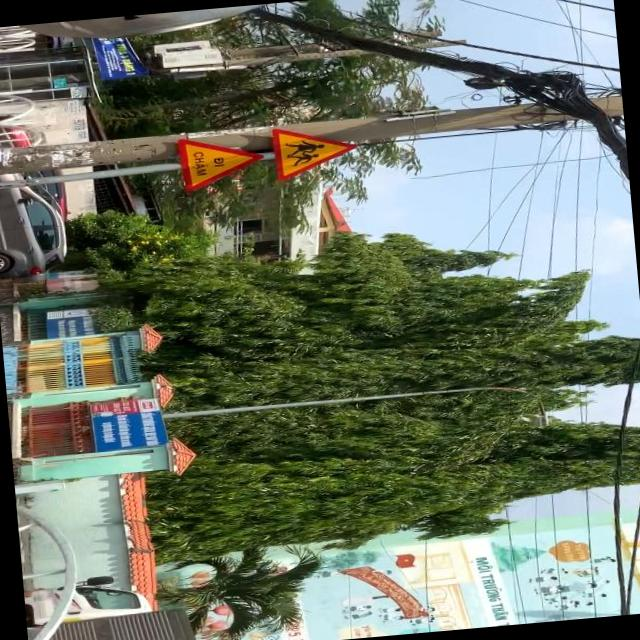W-225: (272, 120, 361, 180)
W-245a: (176, 134, 264, 190)
